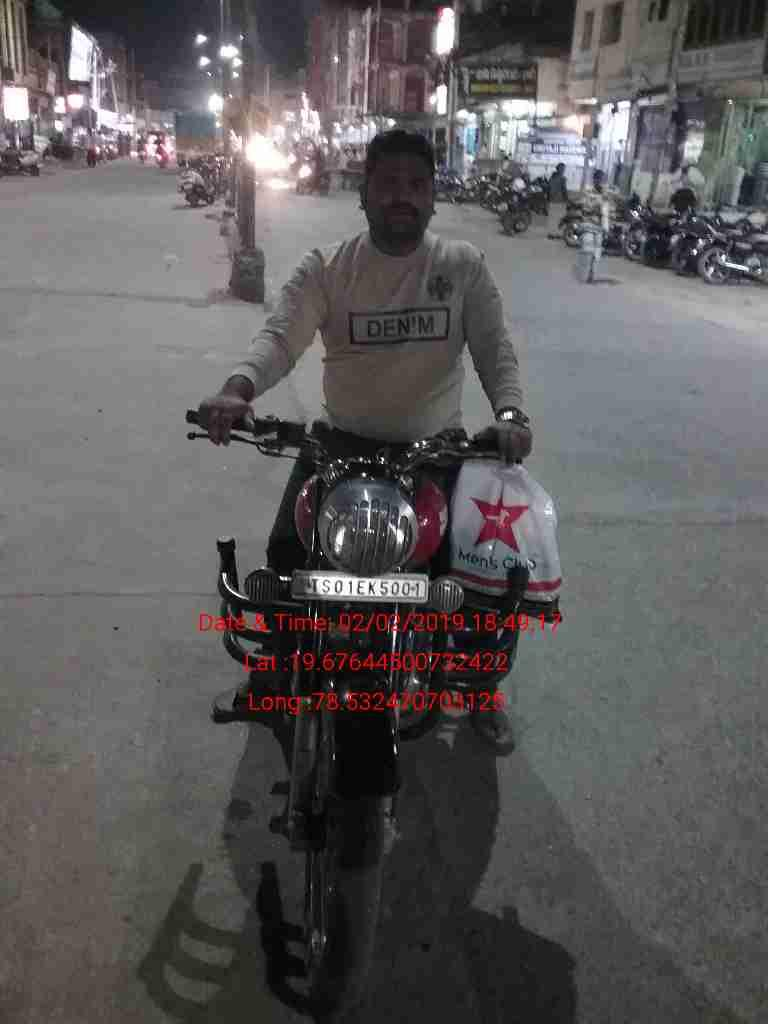plate: (290, 564, 438, 614)
